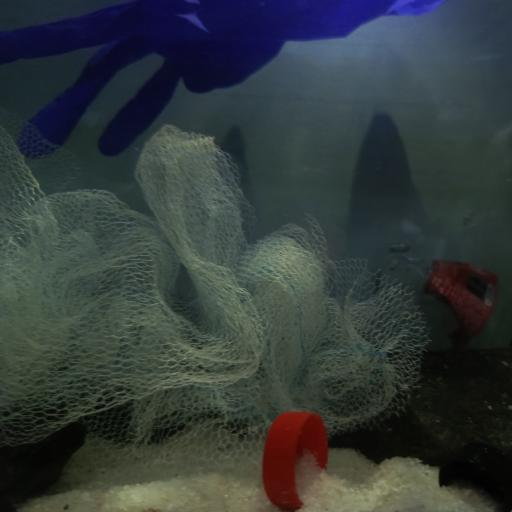bottle_cap: (264, 408, 330, 510), (438, 438, 512, 512)
glove: (0, 1, 448, 160)
net: (0, 104, 429, 463)
plastic_bottle: (372, 238, 512, 349)
